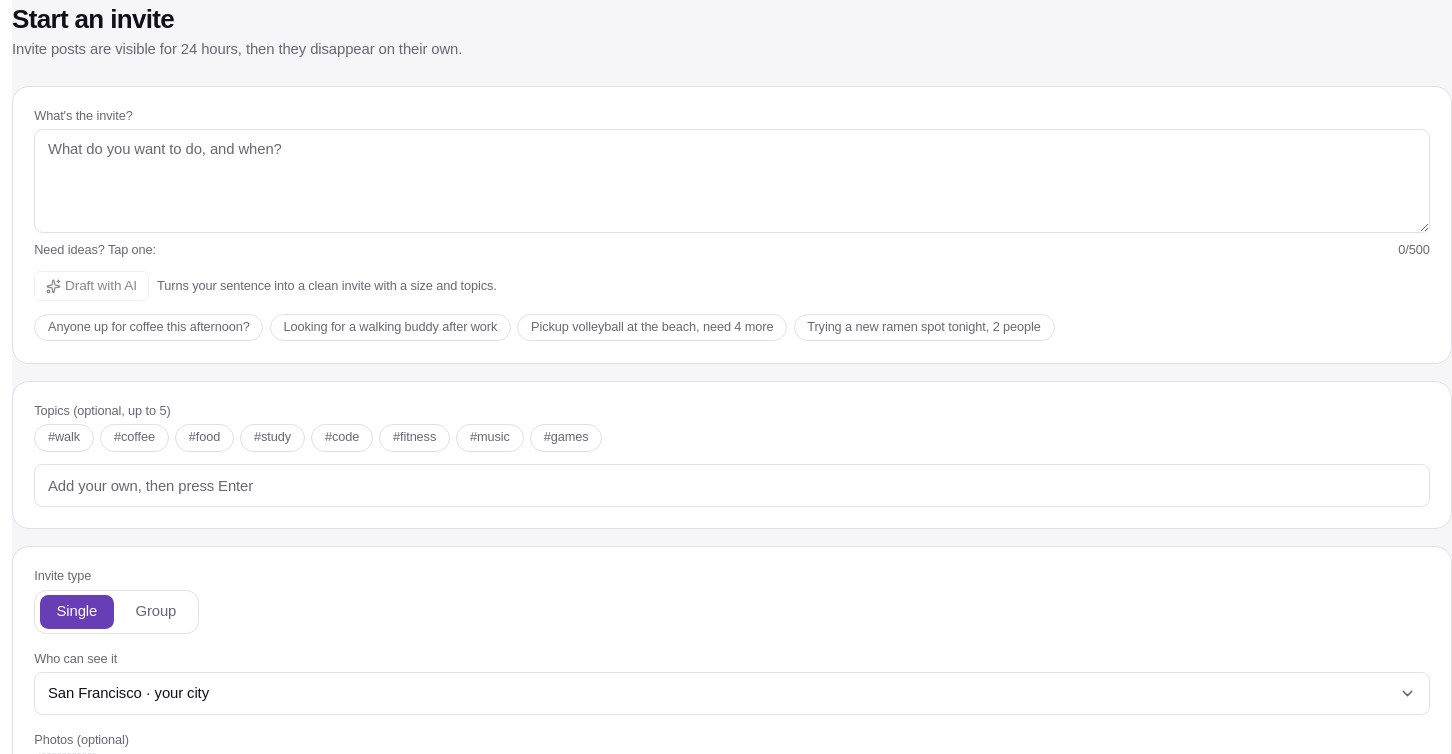
it: NewPostPage › offers a dropdown of group sizes starting at 2
Step 1. Click the radio button labelled "Group" → (156, 612), box [118,595,193,629]
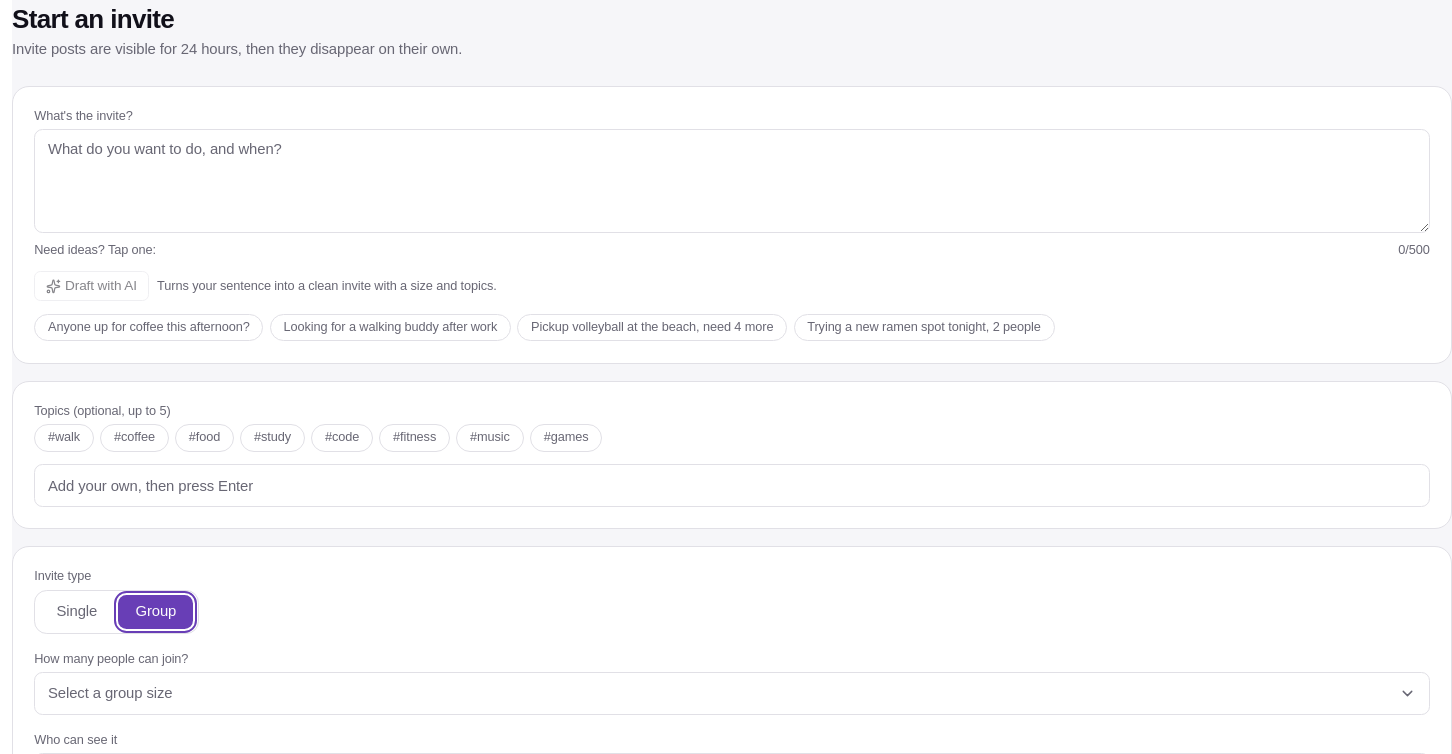
Step 2. Click the dropdown named "How many people can join?" → (110, 693), box [34,672,1430,715]
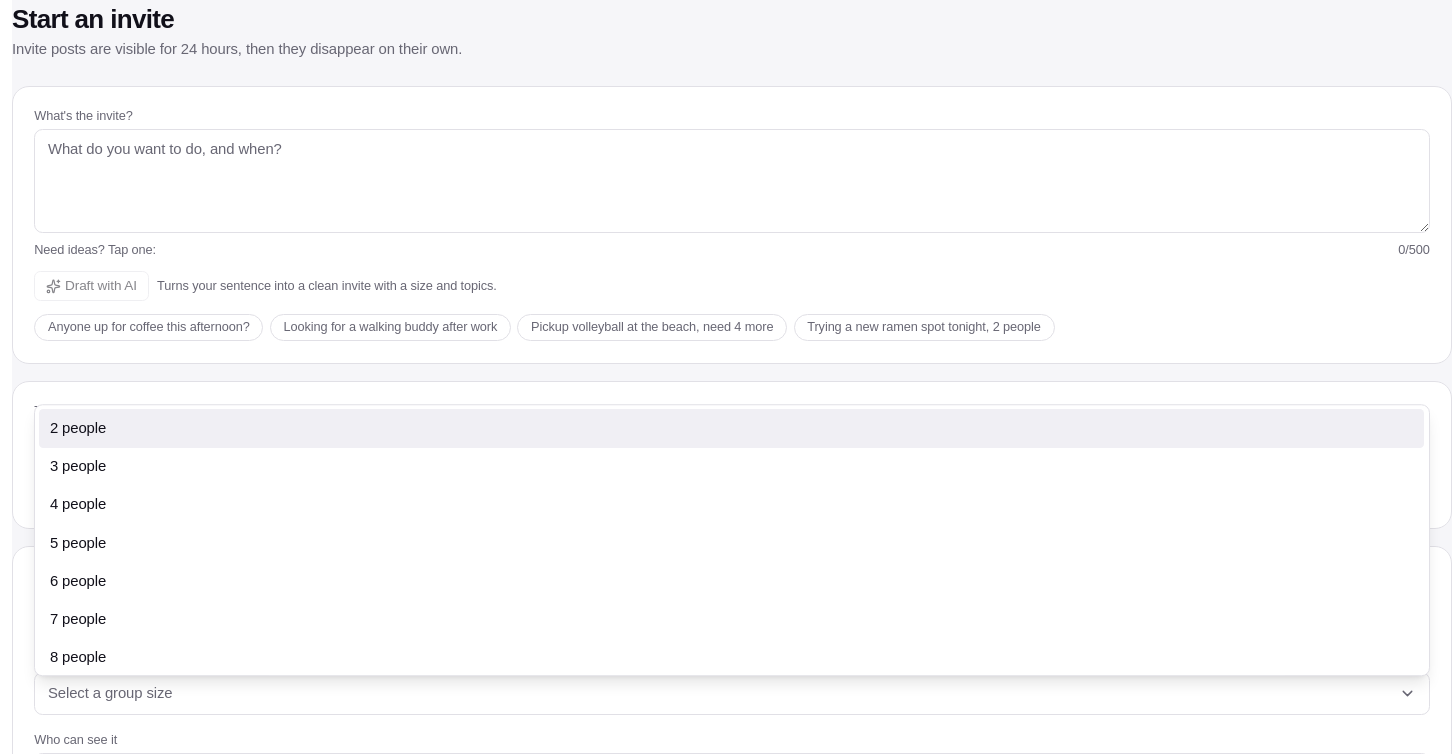
Check: the option "2 people" is shown, box [39,410,1424,448]
